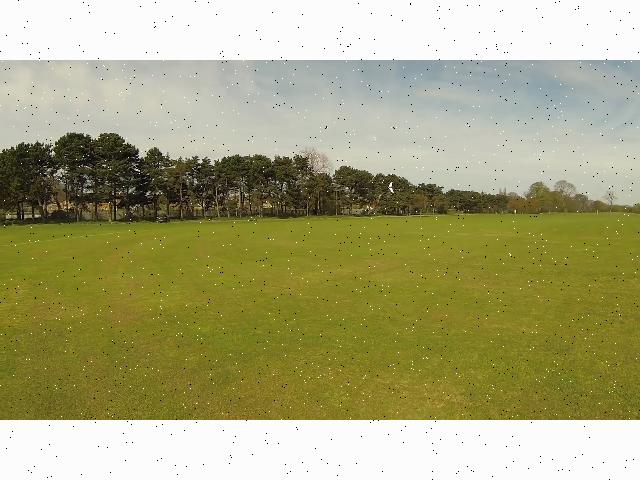Anti-Drone: (384, 178, 400, 205)
